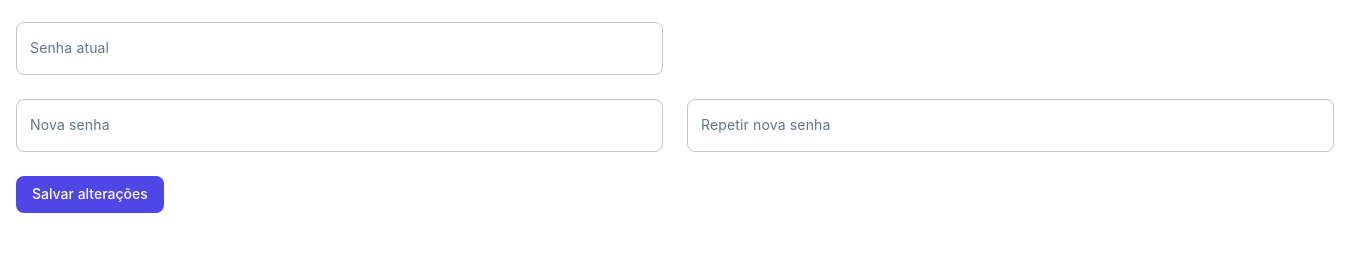
Test case: SecurityForm › bloqueia envio quando a confirmação não bate com a nova senha
Type "senha-atual" into the password field labelled "Senha atual" at coordinates (340, 49), box [16,22,663,75]
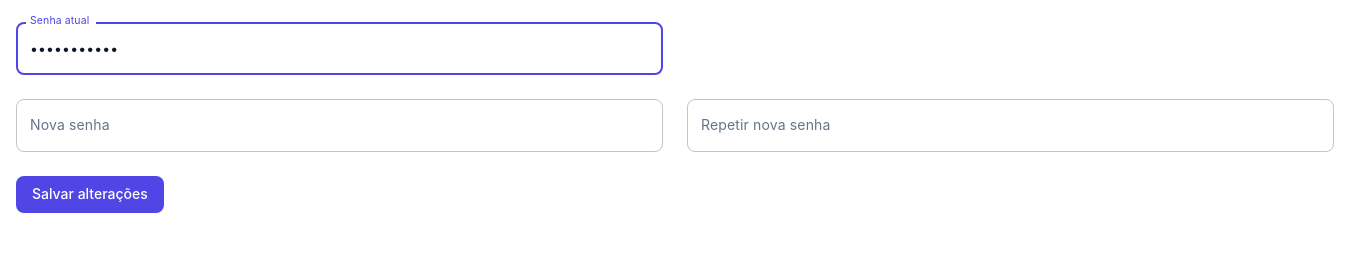
Type "senha-nova-123" into the password field labelled "Nova senha" at coordinates (340, 126), box [16,99,663,152]
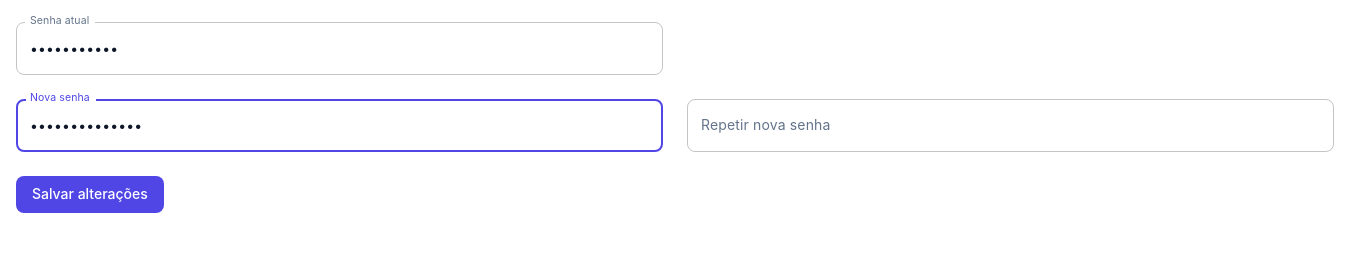
Type "senha-diferente-123" into the password field labelled "Repetir nova senha" at coordinates (1010, 126), box [687,99,1334,152]
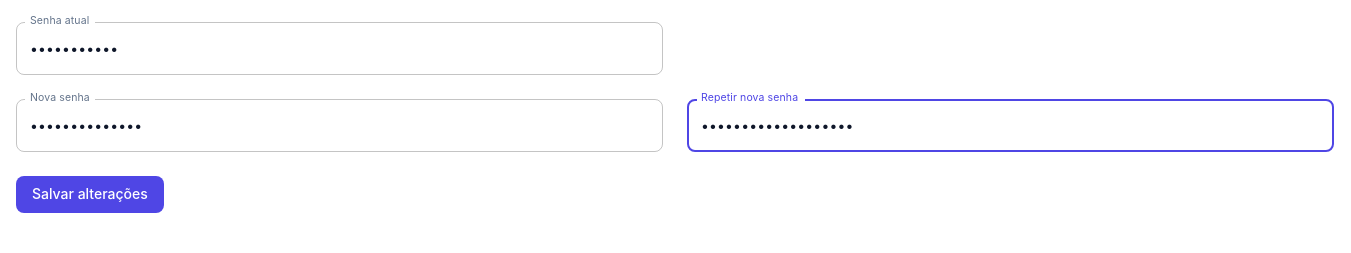
Click the button "Salvar alterações" at coordinates (90, 195), box [16,176,164,213]
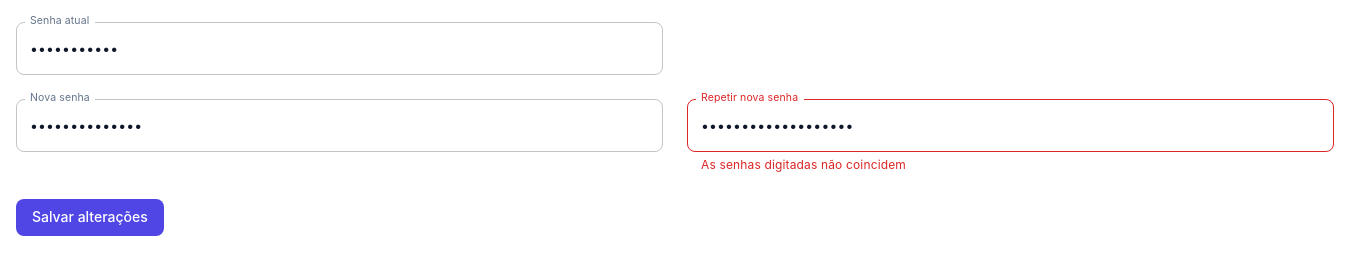
Check: the text "As senhas digitadas não coincidem" is shown, box [701,157,906,172]
